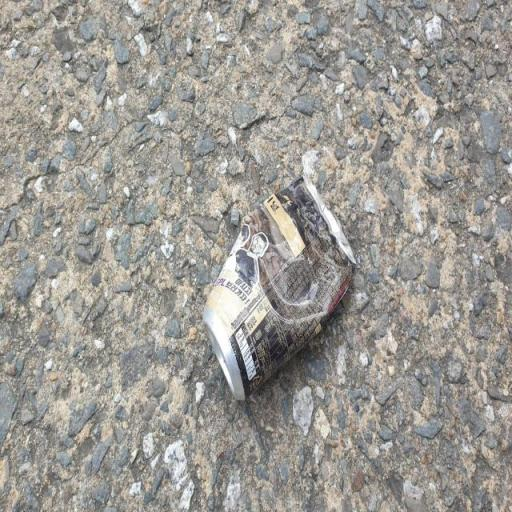metal: (180, 154, 380, 436)
